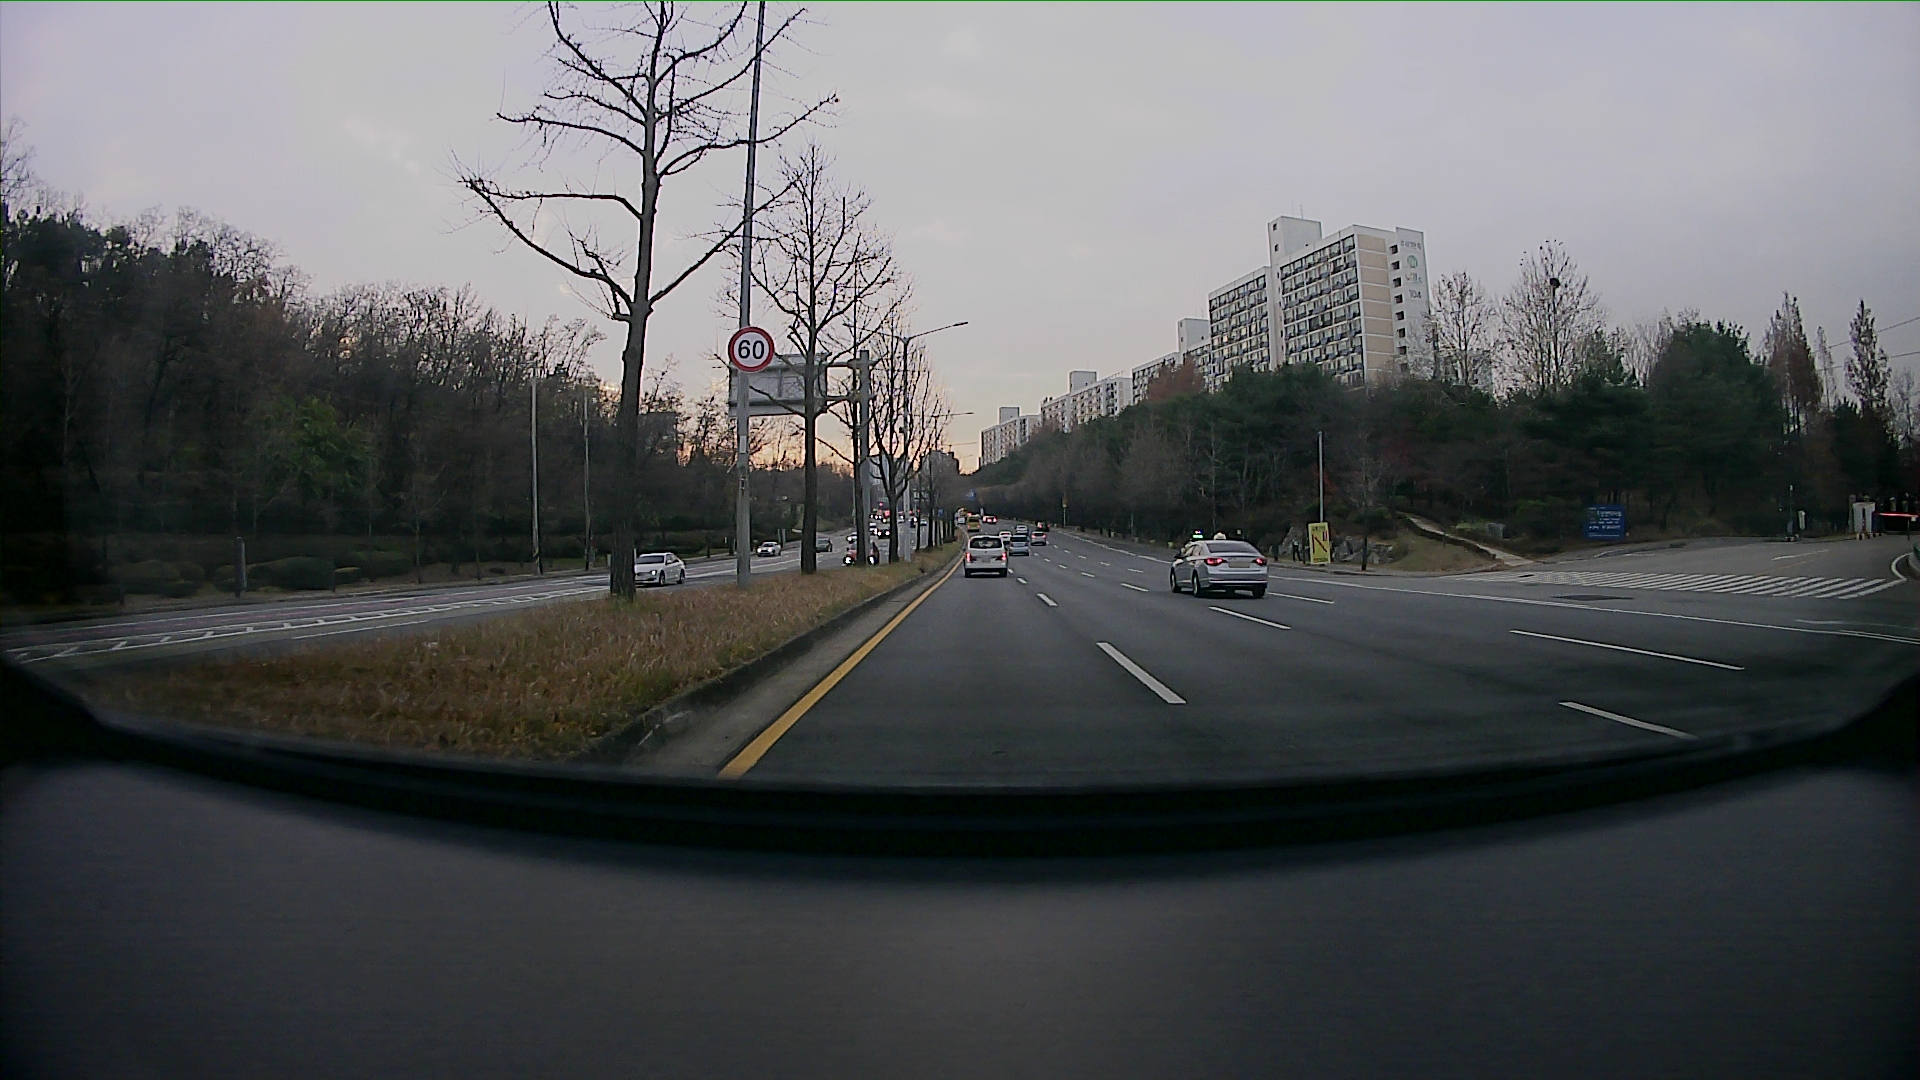trafficSignCircle: (729, 327, 777, 375)
